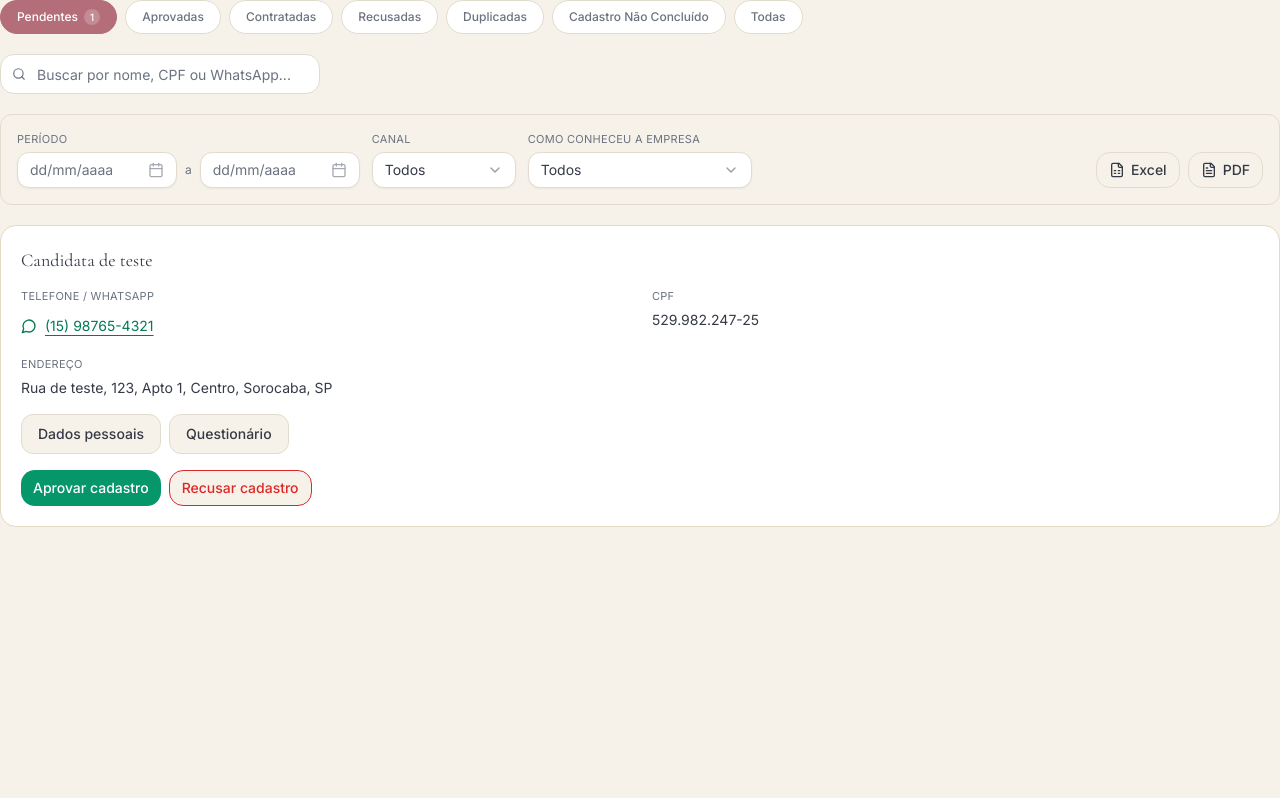
Test: Captação · respostas da candidata › alterna entre dados pessoais e questionário, permitindo fechar os dois
Click the button "Questionário" at {"x": 229, "y": 434}, box [169,414,289,454]
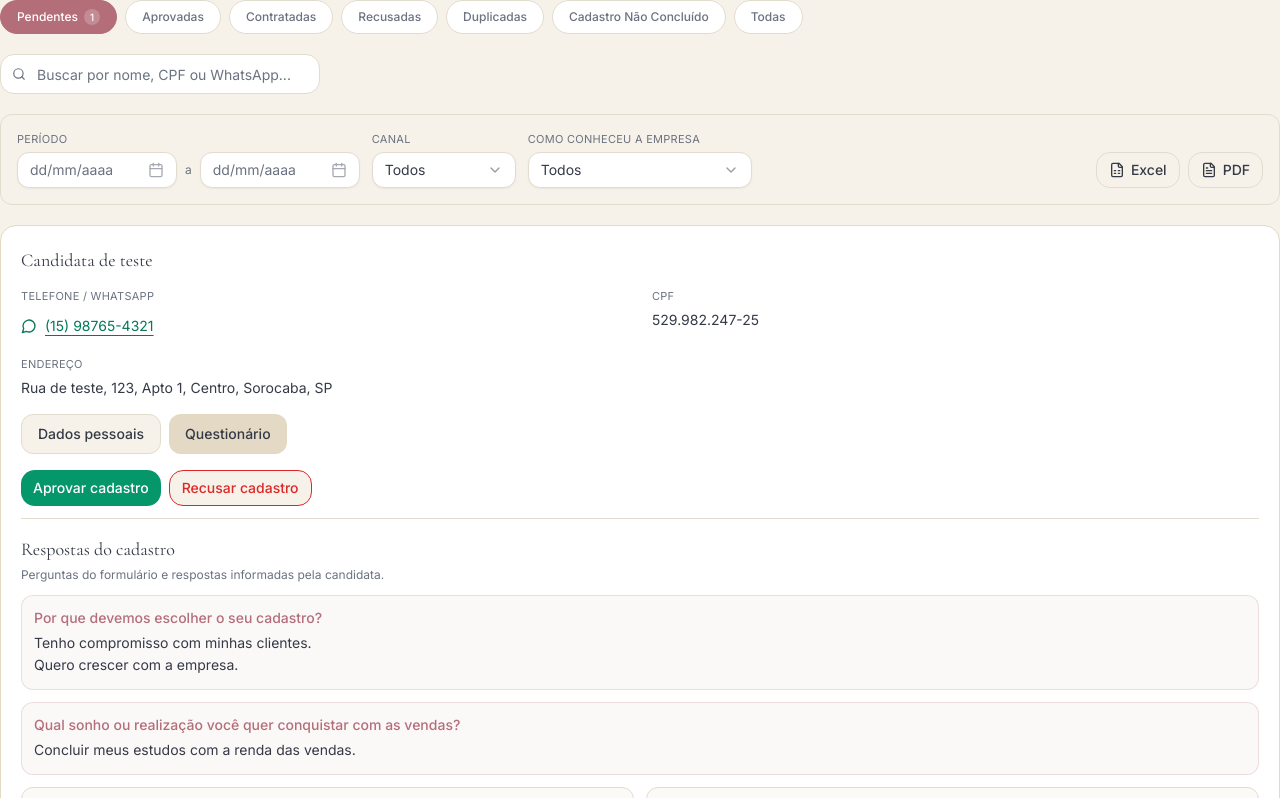
Click the button "Dados pessoais" at {"x": 91, "y": 434}, box [21,414,161,454]
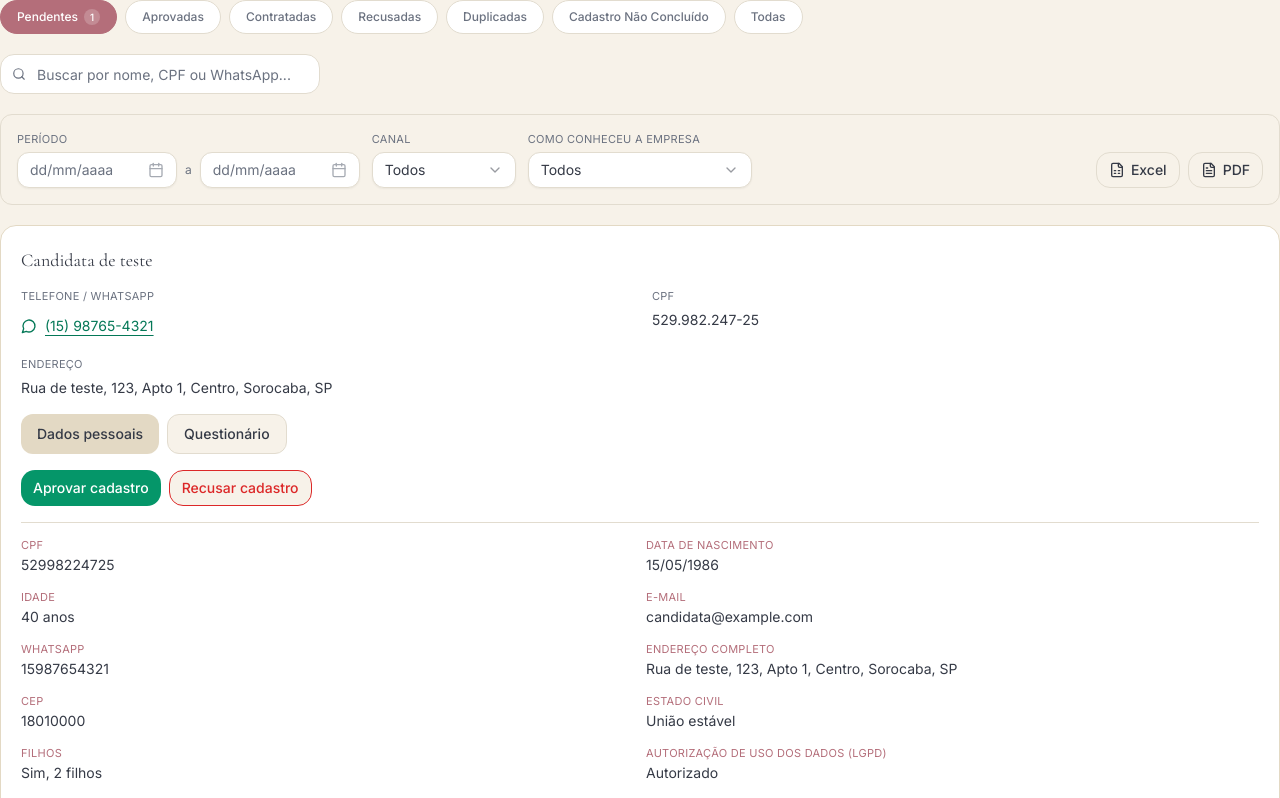
Expected: the text "União estável" is shown, [646,712,735,728]
Expected: the text "Sim, 2 filhos" is shown, [21,764,102,780]
Expected: the text "Autorizado" is shown, [646,764,718,780]
Click the button "Dados pessoais" at {"x": 90, "y": 434}, box [21,414,159,454]
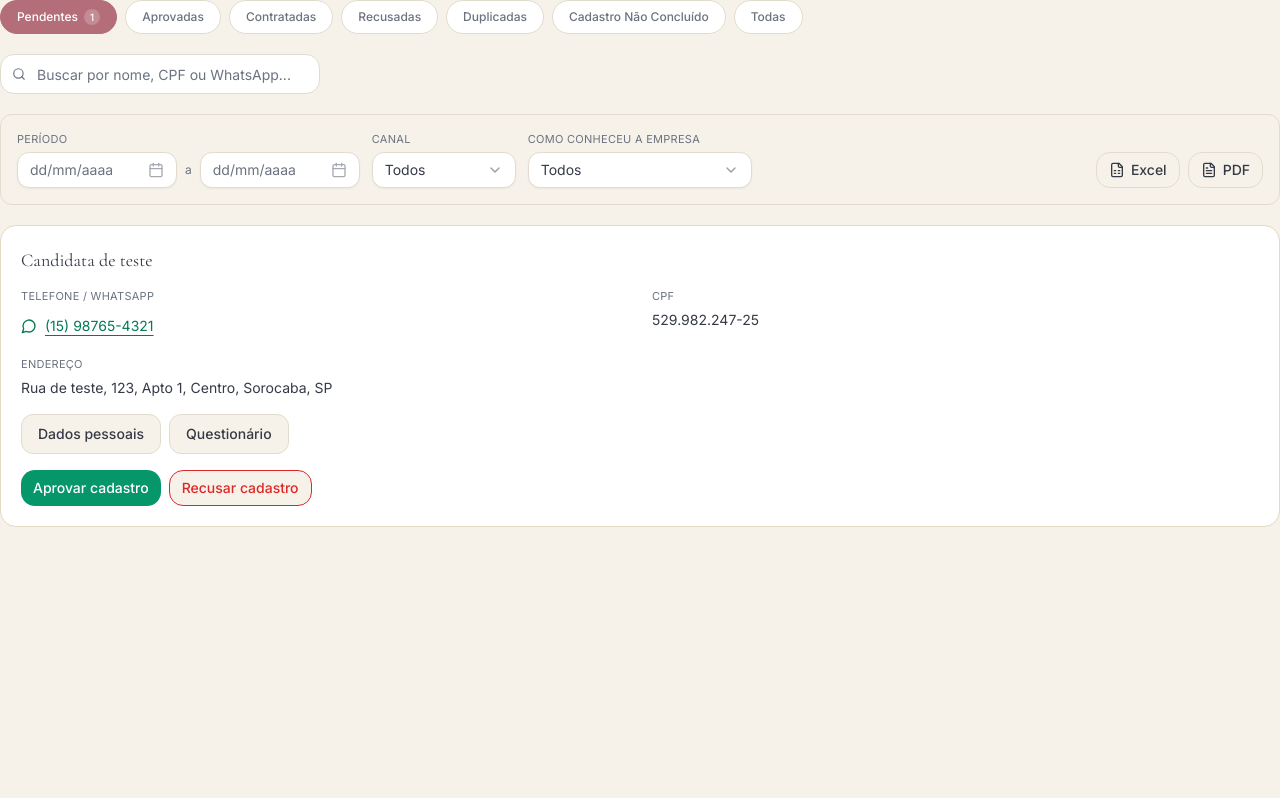
Expected: the text "529.982.247-25" is shown, [652,310,759,328]
Click the button "Questionário" at {"x": 229, "y": 434}, box [169,414,289,454]
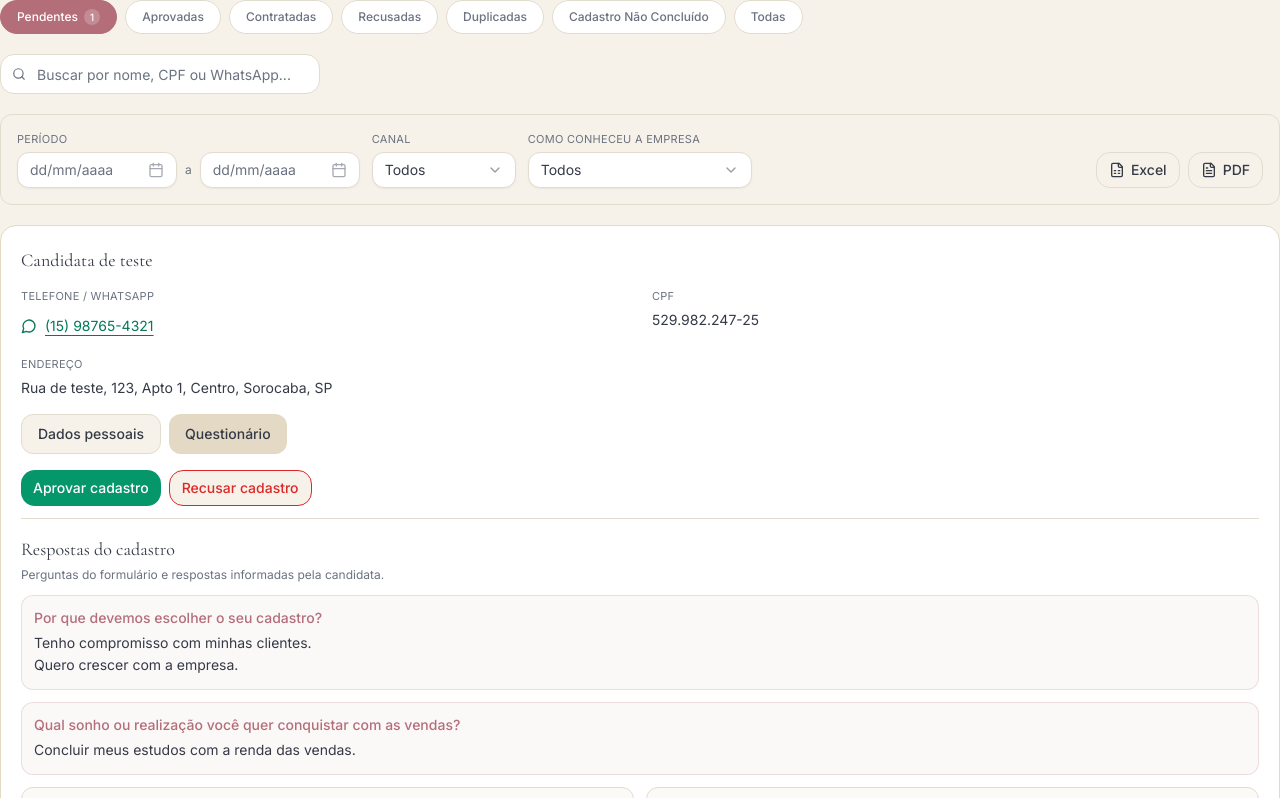
Click the button "Questionário" at {"x": 228, "y": 434}, box [169,414,287,454]
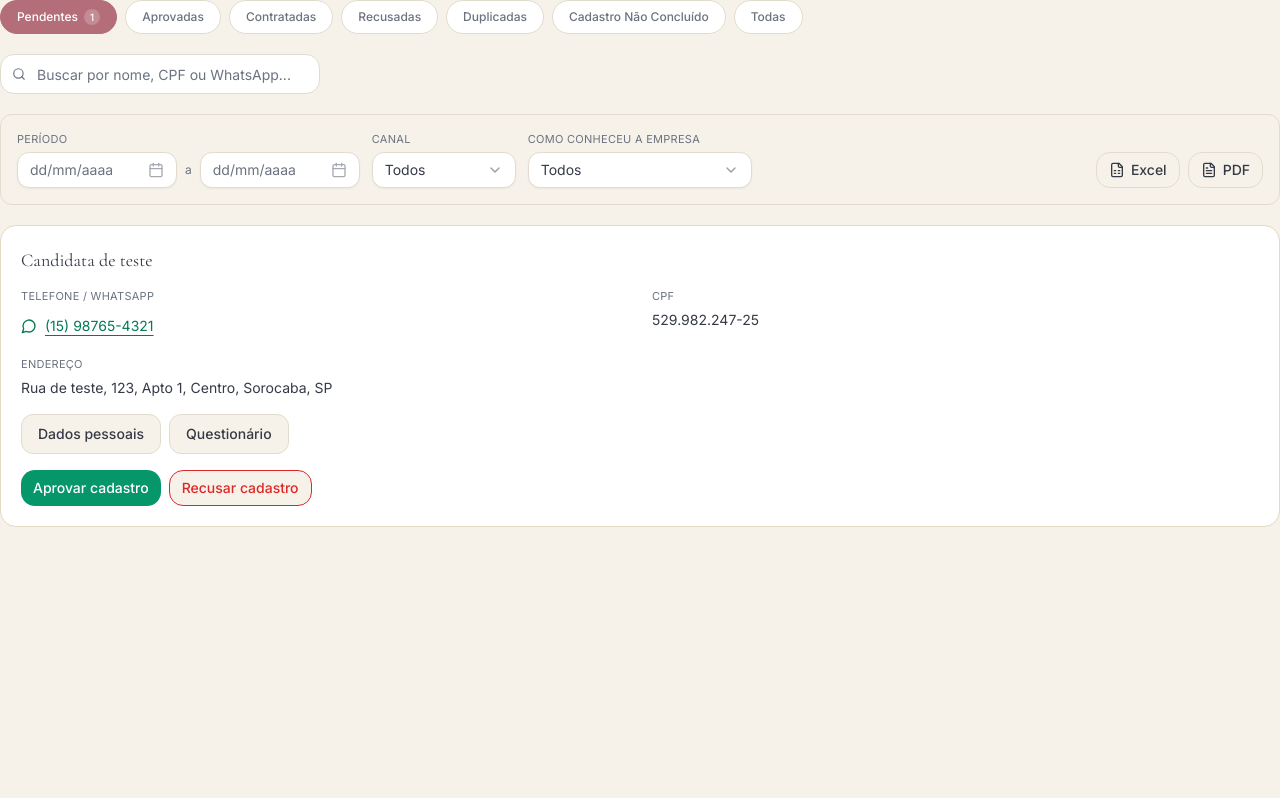
Expected: the heading "Respostas do cadastro" is gone
